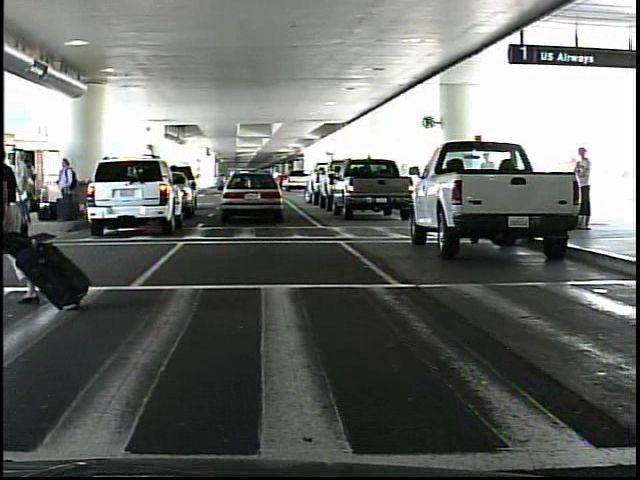person: (563, 148, 598, 231), (14, 151, 37, 226), (54, 157, 76, 224)
